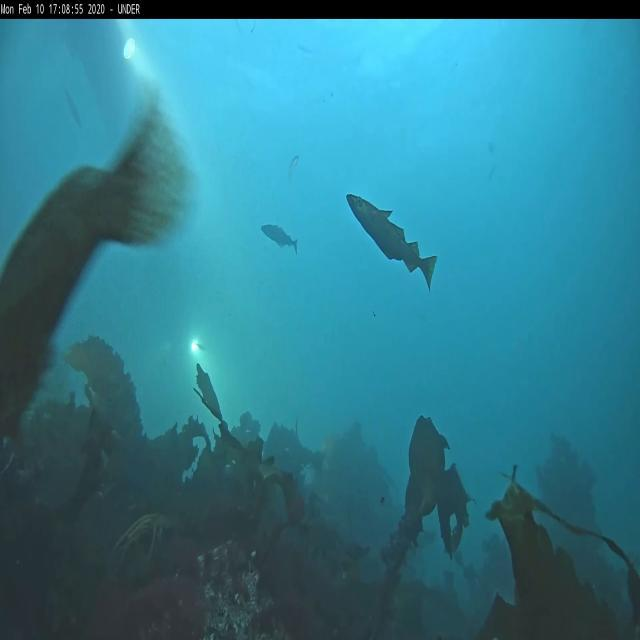fish: (1, 80, 201, 447), (346, 192, 437, 292), (260, 222, 298, 258), (64, 86, 82, 124), (288, 153, 300, 186)
